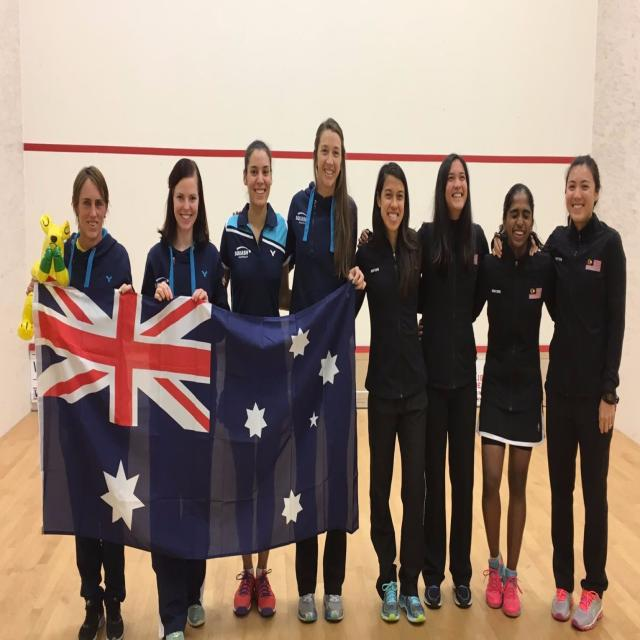body: (356, 151, 542, 610), (416, 182, 584, 620), (230, 115, 368, 625), (490, 153, 628, 634), (25, 163, 138, 640), (138, 157, 232, 639), (219, 139, 293, 619), (353, 161, 428, 624)
